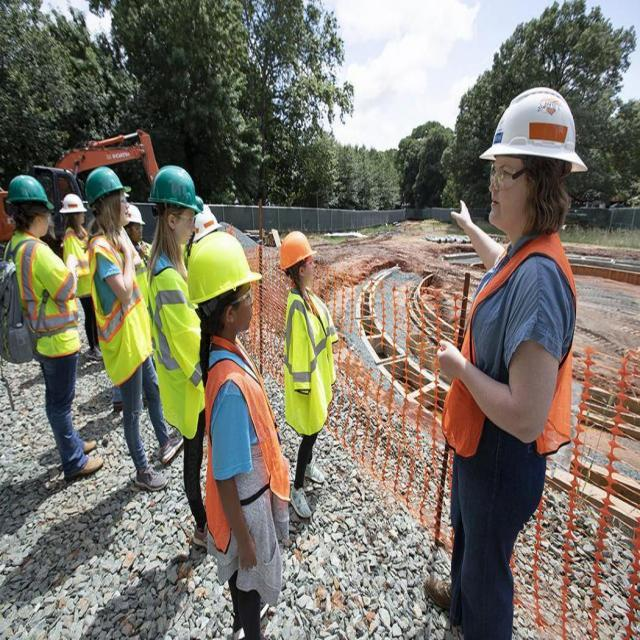reflective_jacket: (443, 231, 578, 462), (203, 347, 290, 517), (145, 254, 204, 444), (4, 237, 82, 357), (90, 233, 153, 379), (281, 286, 336, 434)
safety_helmet: (478, 79, 590, 174), (187, 228, 262, 304), (147, 163, 203, 214), (3, 171, 51, 207), (84, 163, 126, 203), (278, 225, 315, 270), (59, 189, 87, 214), (123, 201, 145, 226)
